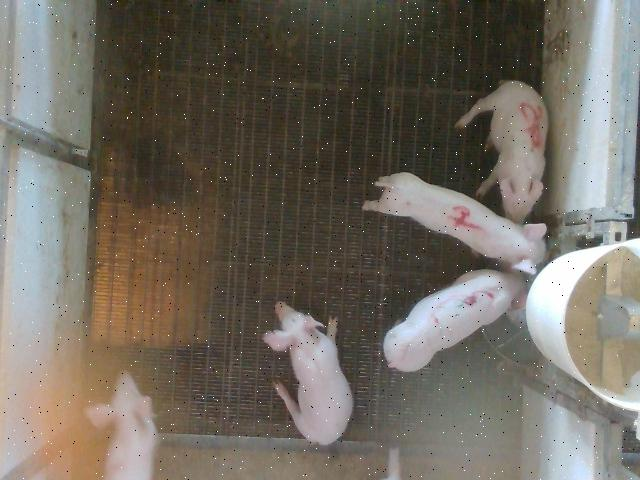pig-3: (384, 270, 524, 371)
pig-4: (364, 172, 545, 273)
pig-5: (456, 81, 548, 223)
